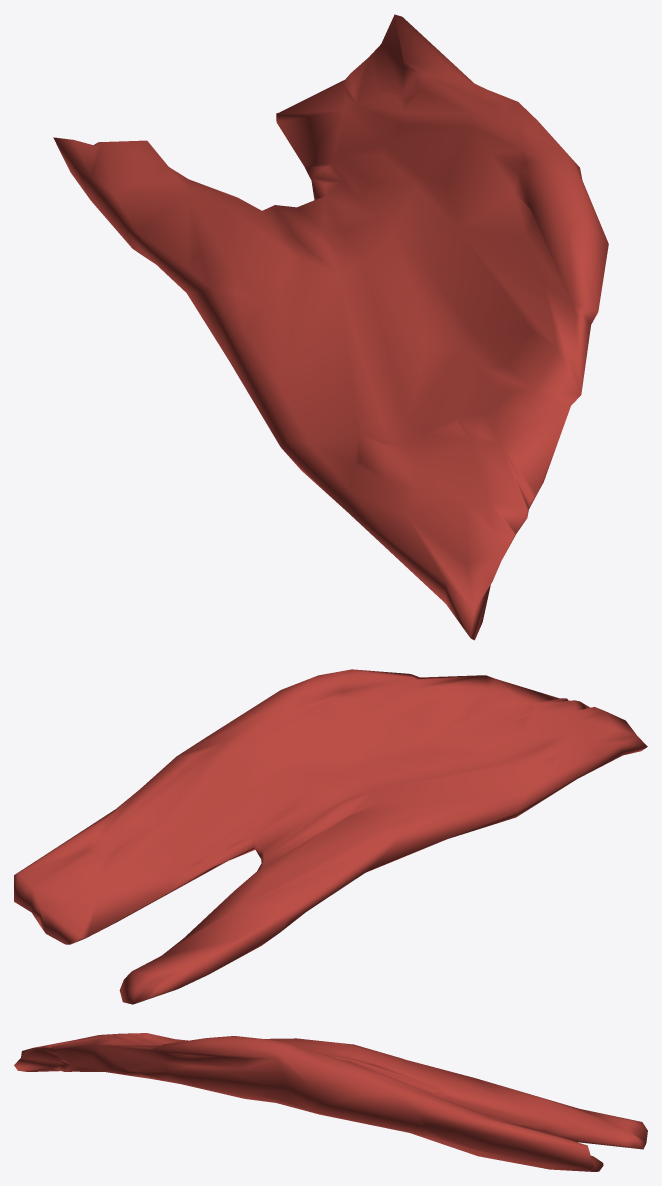
The model's file is musculos-quadratus-plantae-muscle-r.glb.
The picture shows the model from 3 angles, top to bottom: view 1: azimuth 30°, elevation 25°; view 2: azimuth 150°, elevation 25°; view 3: azimuth 270°, elevation 25°; orthographic projection. The views are drawn at different scales.
Parts seen in each view (by area): view 1: Quadratus plantae muscle.r; view 2: Quadratus plantae muscle.r; view 3: Quadratus plantae muscle.r.
Part boxes in pixels (box(x1,y1,x2,y2)): Quadratus plantae muscle.r: box(53, 14, 608, 640); Quadratus plantae muscle.r: box(14, 669, 647, 1004); Quadratus plantae muscle.r: box(14, 1033, 647, 1171).
Size of the model in its own units: 0.0356 by 0.017 by 0.0768.
